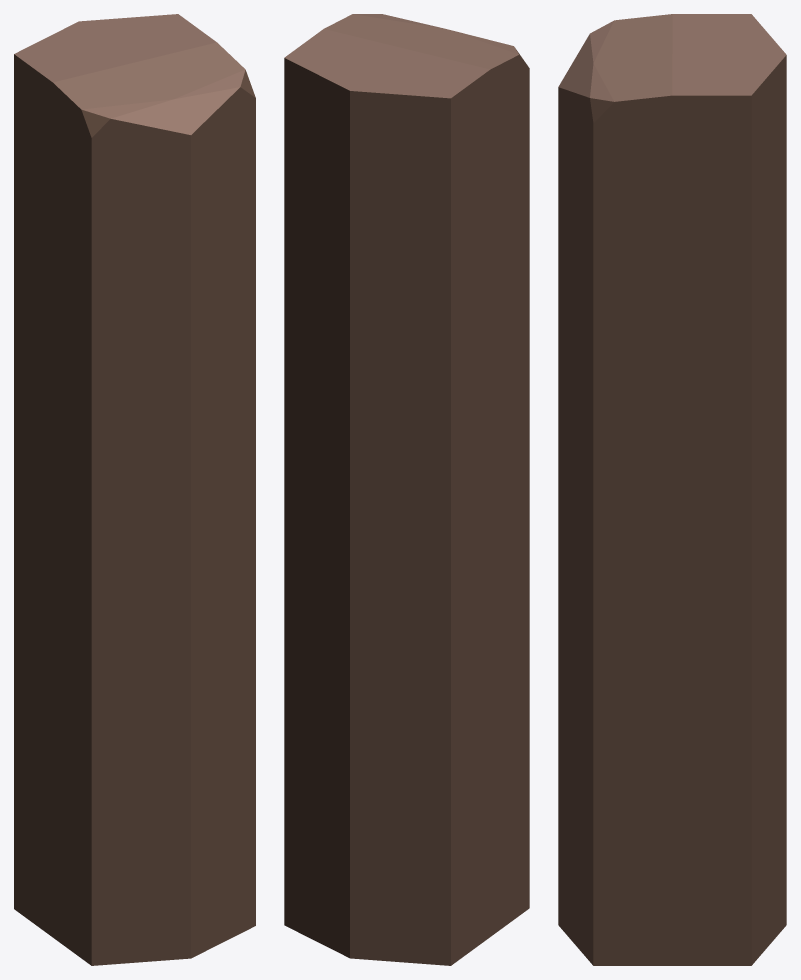
The model's file is stone_pillar_03.glb.
3 renders of one model, left to right at view 1: azimuth 30°, elevation 25°; view 2: azimuth 150°, elevation 25°; view 3: azimuth 270°, elevation 25°, orthographic.
Visible parts, largest first — view 1: Plane.014; view 2: Plane.014; view 3: Plane.014.
Boxes of the visible parts, x1,y1,x2,y2 form: Plane.014: (14, 14, 255, 965); Plane.014: (284, 14, 529, 965); Plane.014: (558, 14, 786, 965).
Size of the model in its own units: 10 by 49.74 by 11.83.
1 material, 1 textured.
